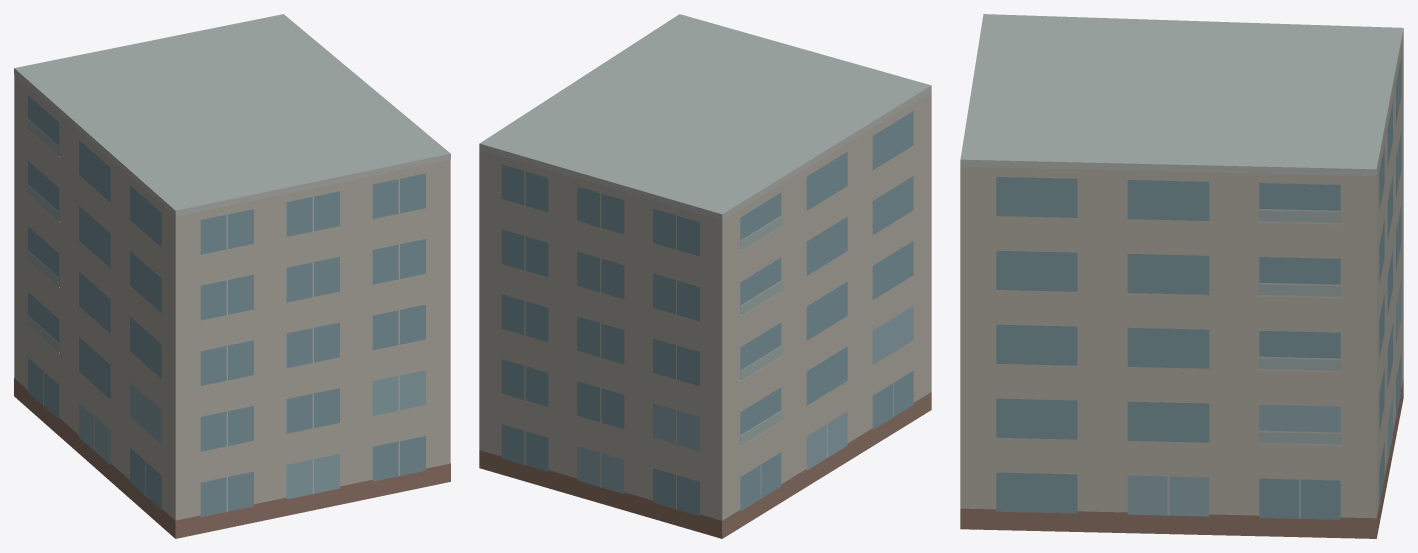
The model's file is survey-upis-32946801.glb.
3 views of the same model, side by side, from view 1: azimuth 30°, elevation 25°; view 2: azimuth 150°, elevation 25°; view 3: azimuth 270°, elevation 25° (orthographic). The views are drawn at different scales.
Parts seen in each view (by area): view 1: survey-upis-32946801.tmp; view 2: survey-upis-32946801.tmp; view 3: survey-upis-32946801.tmp.
Part boxes in pixels (bbox=[...]): survey-upis-32946801.tmp: bbox=[14, 14, 450, 538]; survey-upis-32946801.tmp: bbox=[479, 14, 931, 538]; survey-upis-32946801.tmp: bbox=[960, 14, 1403, 538].
Bounding box in the file's own units: 11.91 × 13.2 × 14.36.
